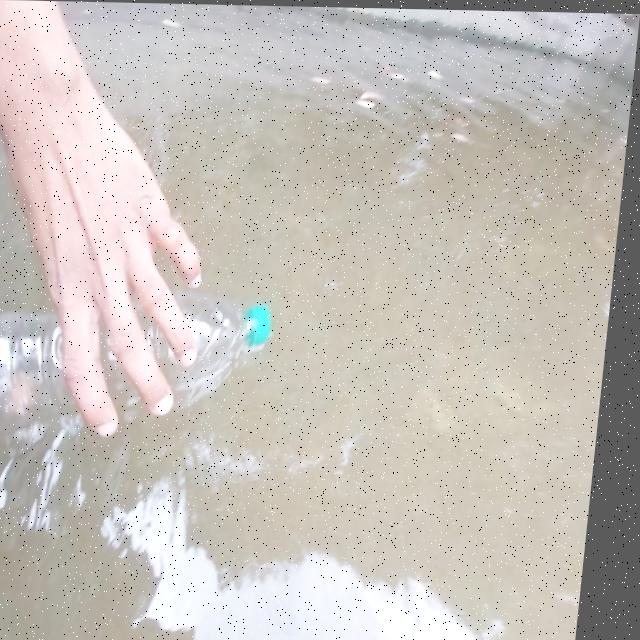waterbottle: (0, 266, 315, 487)
